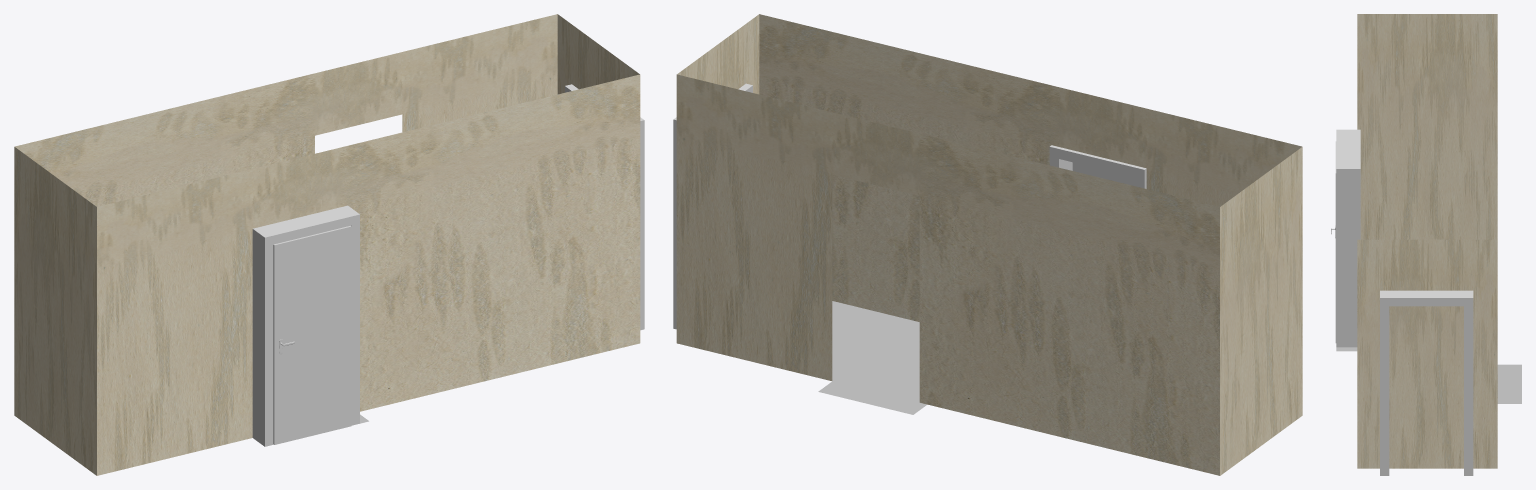
Rendered from koridor.fbx.
3 views of the same model, side by side, from view 1: azimuth 30°, elevation 25°; view 2: azimuth 150°, elevation 25°; view 3: azimuth 270°, elevation 25° (orthographic). The views are drawn at different scales.
Visible parts, largest first — view 1: Plane.002, Plane.001, Plane.003, Panel.001, Door.001, Plane.004, Door.002; view 2: Plane.001, Plane.002, Plane.003, Plane, Plane.004, Door.001, Plane.006, Door.002; view 3: Plane.003, Plane.004, Door.001, Door.002, Plane.006, Panel.001.
Boxes of the visible parts, x1=… form: Plane.002: x1=97, y1=74, x2=640, y2=475; Plane.001: x1=15, y1=14, x2=557, y2=206; Plane.003: x1=14, y1=147, x2=96, y2=475; Panel.001: x1=273, y1=226, x2=351, y2=444; Door.001: x1=252, y1=205, x2=359, y2=446; Plane.004: x1=557, y1=14, x2=639, y2=94; Door.002: x1=565, y1=84, x2=644, y2=330; Plane.001: x1=676, y1=74, x2=1219, y2=475; Plane.002: x1=759, y1=14, x2=1301, y2=321; Plane.003: x1=1220, y1=147, x2=1302, y2=475; Plane: x1=832, y1=301, x2=919, y2=402; Plane.004: x1=677, y1=14, x2=759, y2=94; Door.001: x1=1049, y1=145, x2=1146, y2=188; Plane.006: x1=818, y1=381, x2=926, y2=414; Door.002: x1=673, y1=83, x2=752, y2=329; Plane.003: x1=1357, y1=14, x2=1497, y2=239; Plane.004: x1=1357, y1=239, x2=1497, y2=468; Door.001: x1=1336, y1=129, x2=1360, y2=347; Door.002: x1=1380, y1=290, x2=1473, y2=475; Plane.006: x1=1497, y1=364, x2=1521, y2=403; Panel.001: x1=1335, y1=141, x2=1336, y2=342.
Size of the model in its own units: 589 by 270 by 204.
